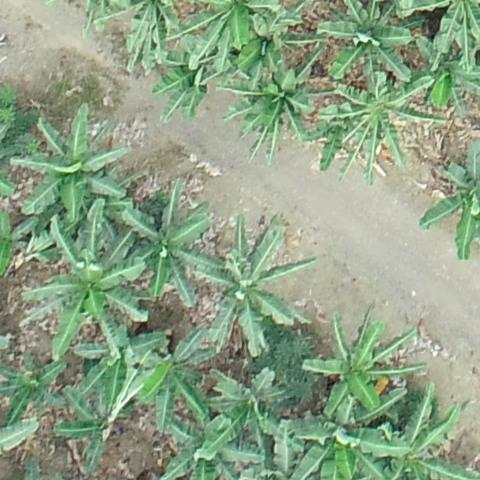Banana-plant: (28, 216, 152, 359), (197, 220, 316, 354), (304, 306, 426, 423), (14, 105, 140, 217), (126, 179, 229, 309), (332, 69, 432, 176), (362, 399, 480, 480), (314, 1, 419, 90), (50, 364, 142, 464), (94, 0, 202, 76), (235, 58, 327, 144), (419, 142, 480, 267), (135, 339, 214, 435), (165, 410, 254, 480), (411, 34, 480, 119), (205, 362, 290, 429), (150, 41, 219, 115), (5, 355, 72, 424), (239, 17, 304, 84), (196, 0, 289, 44), (306, 100, 364, 166)
